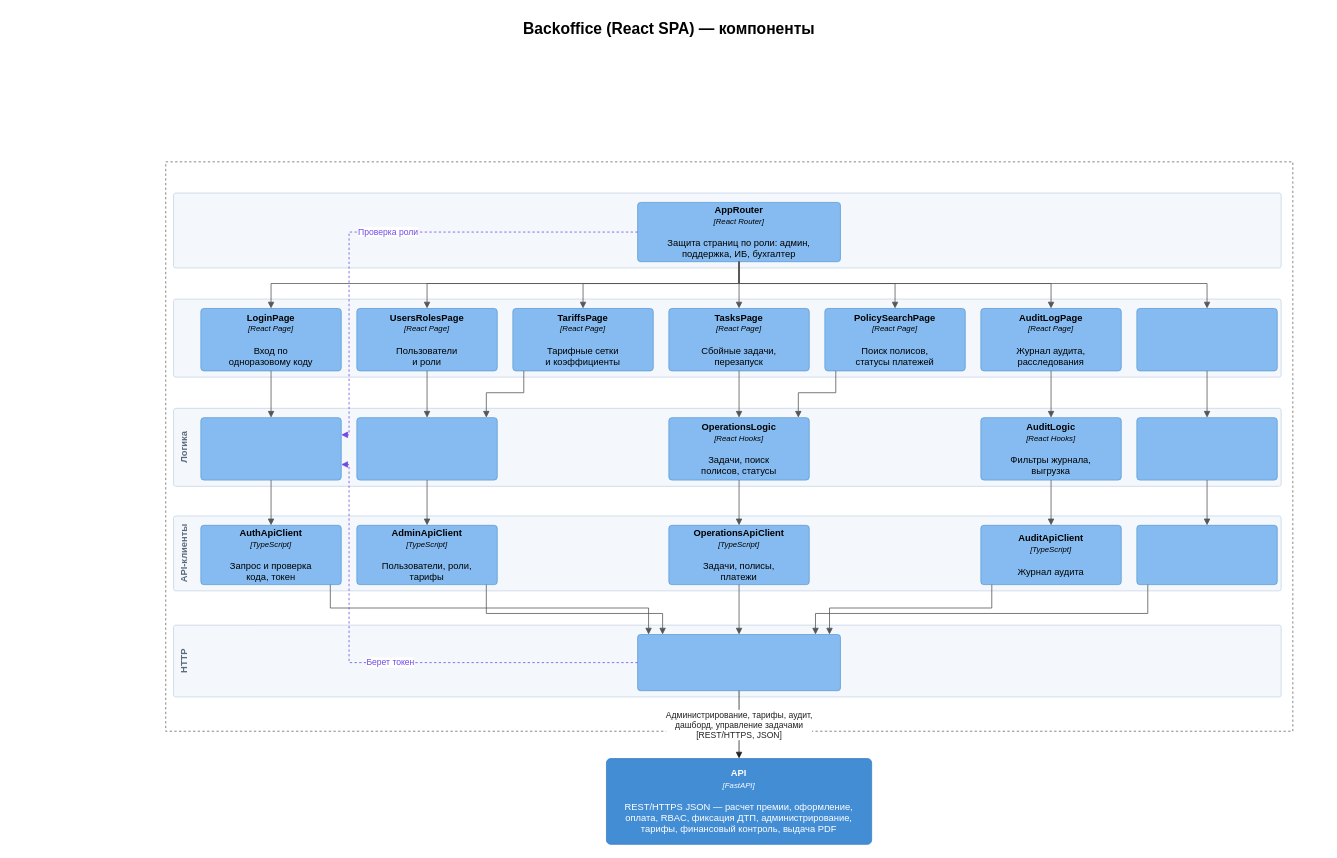
Image size: 1337x858. Some labels were removed from this diagram. The box of each missing label's shape, as (x1, y1, x2, y2) in pixels:
AdminLogic [React Hooks] Формы пользователей, ролей и тарифов: (356, 417, 497, 480)
AuthLogic [React Context] Токен и роль пользователя: (200, 417, 341, 480)
Backoffice — React SPA [Container]: (165, 161, 1293, 731)
FinanceApiClient [TypeScript] Маржа, оплаты, счета и акты: (1136, 525, 1277, 585)
FinanceDashboard [React Page] Маржа, оплаты, счета и акты: (1136, 308, 1277, 371)
FinanceLogic [React Hooks] Дашборд маржи, счета и акты: (1136, 417, 1277, 480)
HttpClient [axios] Токен в каждом запросе, 401/403, повторы: (637, 634, 840, 691)
Маршруты: (173, 192, 1281, 268)
Страницы: (173, 298, 1281, 377)
